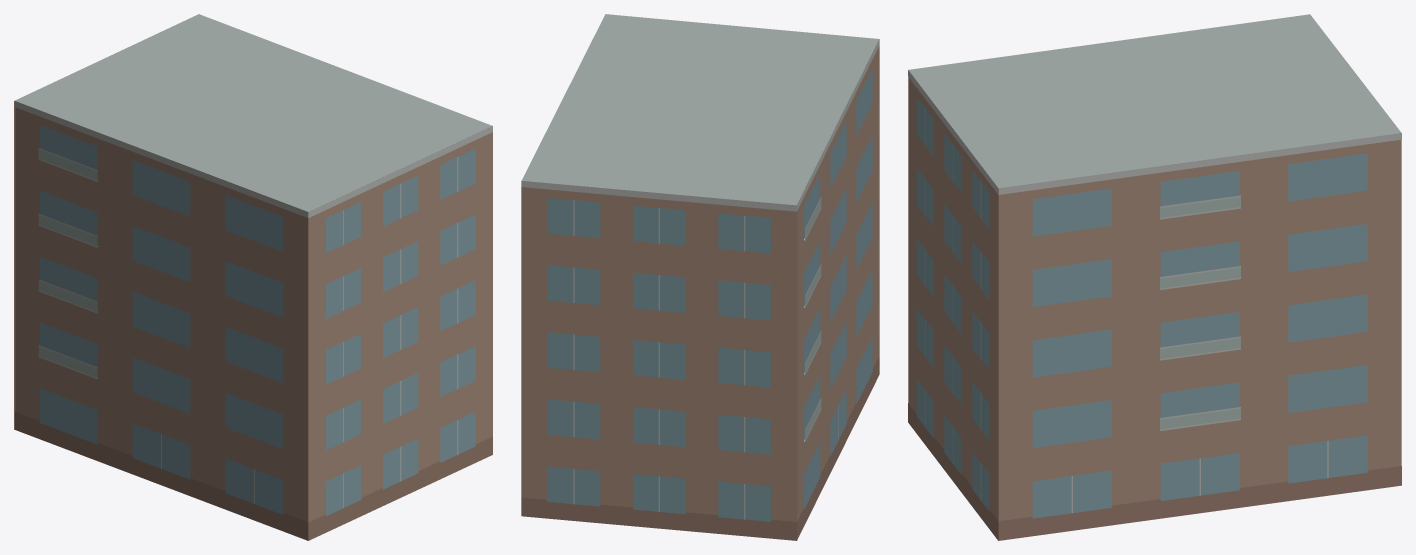
File: survey-upis-32619191.glb
3 renders of one model, left to right at view 1: azimuth 30°, elevation 25°; view 2: azimuth 150°, elevation 25°; view 3: azimuth 270°, elevation 25°, orthographic. The views are drawn at different scales.
Visible parts, largest first — view 1: survey-upis-32619191.tmp; view 2: survey-upis-32619191.tmp; view 3: survey-upis-32619191.tmp.
Boxes of the visible parts, x1=… form: survey-upis-32619191.tmp: x1=14, y1=14, x2=492, y2=540; survey-upis-32619191.tmp: x1=521, y1=14, x2=879, y2=540; survey-upis-32619191.tmp: x1=908, y1=14, x2=1401, y2=540.
Bounding box in the file's own units: 13.8 × 13 × 16.51.
